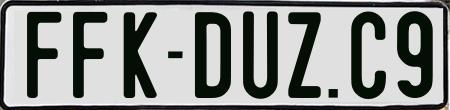9: (396, 8, 435, 97)
C: (348, 11, 384, 102)
D: (192, 11, 232, 101)
F: (25, 9, 61, 95), (71, 10, 105, 101)
K: (124, 11, 162, 99)
U: (243, 10, 281, 99)
Z: (285, 11, 324, 100)
